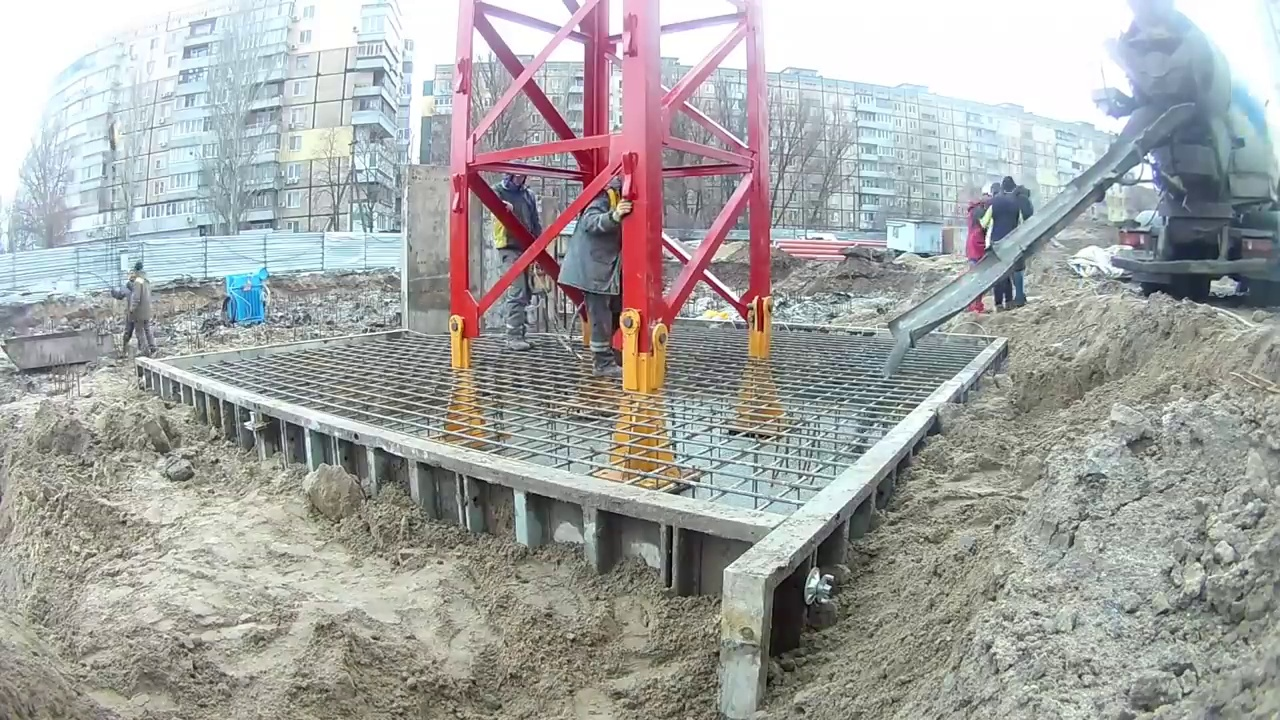helmet-off: (503, 161, 530, 192), (1001, 176, 1016, 196), (982, 181, 994, 200), (989, 181, 1000, 199), (127, 268, 136, 285), (134, 262, 145, 275)
person: (558, 175, 638, 380), (488, 161, 548, 354), (1001, 175, 1035, 312), (963, 177, 993, 317), (989, 183, 1013, 316), (110, 267, 144, 358), (130, 262, 157, 357)
